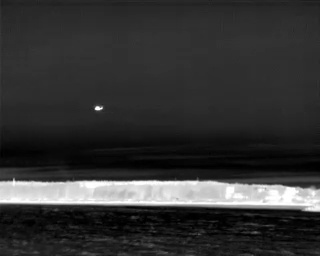HELICOPTER: (91, 101, 107, 116)
